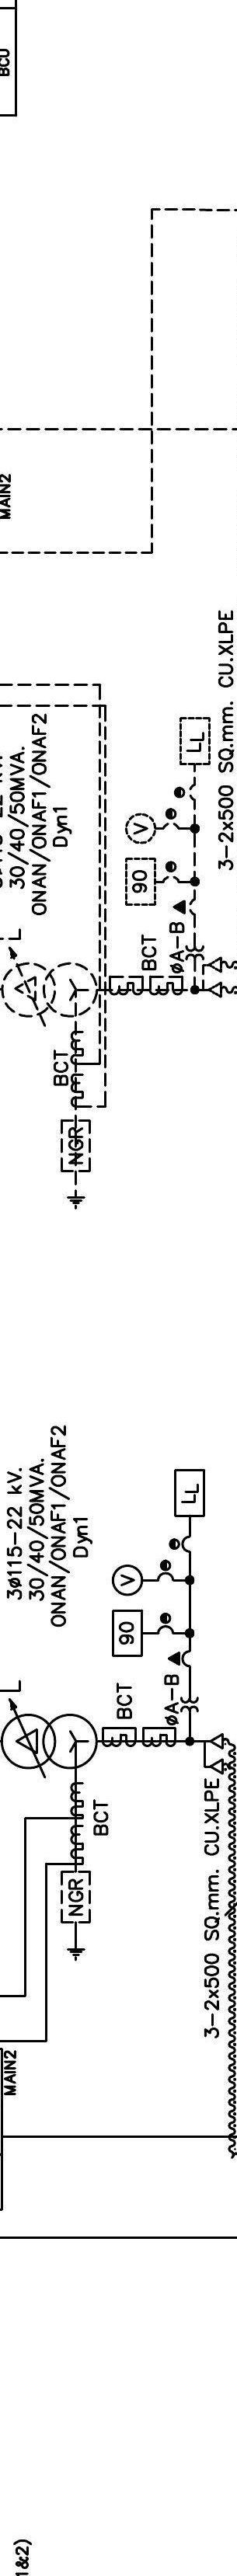11522_tx_dyn1: (0, 1713, 99, 1770)
LL: (173, 1468, 206, 1518)
NGR_future: (60, 1870, 92, 1962)
terminator_double: (203, 1733, 224, 1775)
v_m: (111, 1564, 144, 1597)
